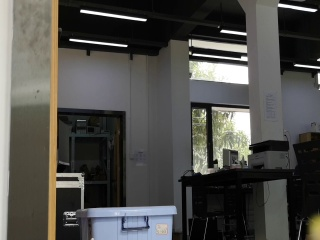room: (9, 2, 314, 233)
